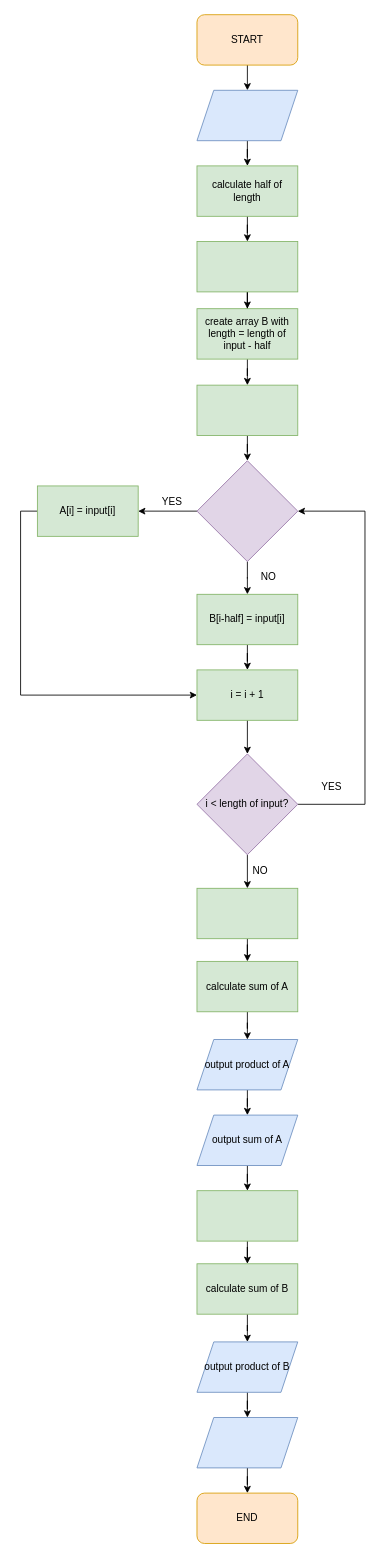
The diagram is 386 pixels wide and 1558 high, and some of its shapes have lost their labels. Each missing label, with the box of its shape:
calculate product of A: (196, 887, 298, 939)
calculate product of B: (196, 1190, 298, 1241)
create array A with length = half: (196, 241, 298, 292)
i < half?: (196, 460, 298, 562)
i = 0: (196, 384, 298, 436)
input array: (196, 89, 298, 141)
output sum of B: (196, 1417, 298, 1468)
